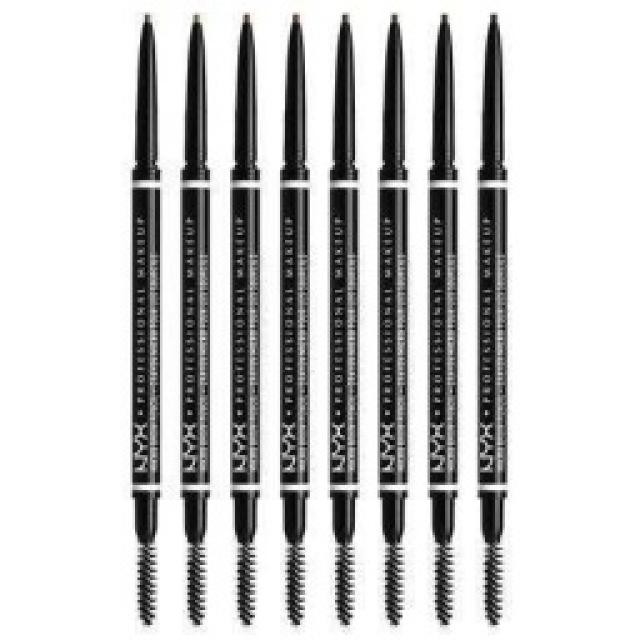pencil: (123, 5, 515, 630)
